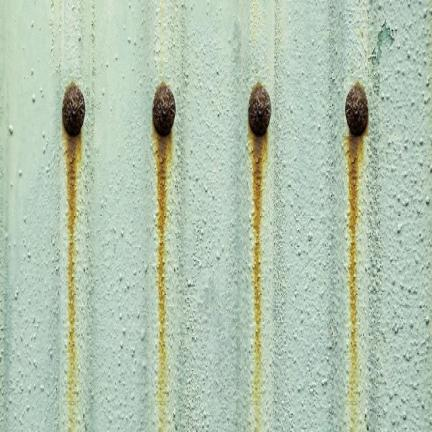karat: (345, 131, 370, 431), (63, 84, 85, 136), (249, 84, 271, 136)
